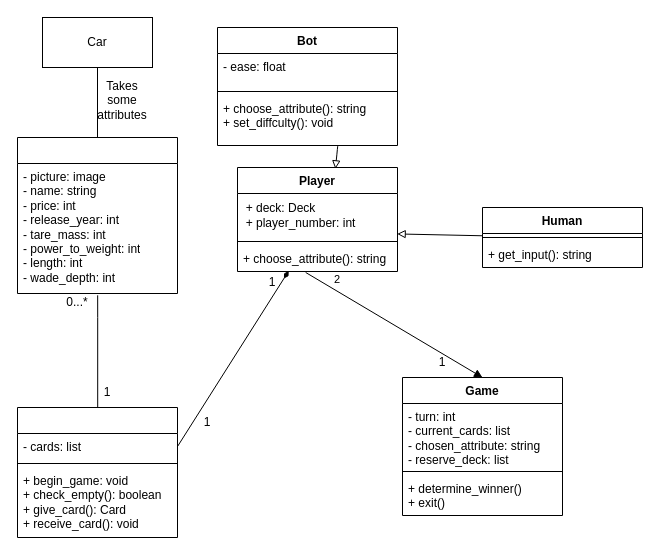
Image size: 660x558. Some labels were removed from this diagram. The box of each missing label's shape, as (x1, y1, x2, y2) in pixels:
Card: (16, 136, 178, 294)
Deck: (16, 406, 178, 538)
